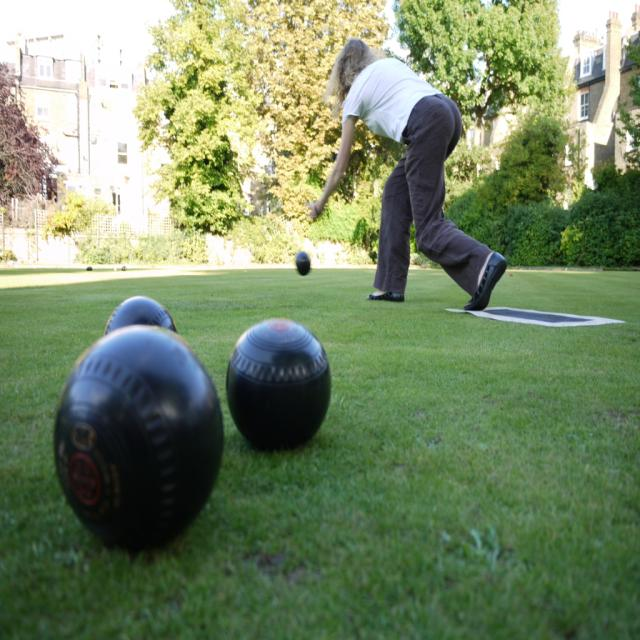Ball: (54, 322, 224, 558), (225, 316, 333, 453), (99, 292, 180, 344), (296, 248, 312, 278), (122, 264, 129, 272)
